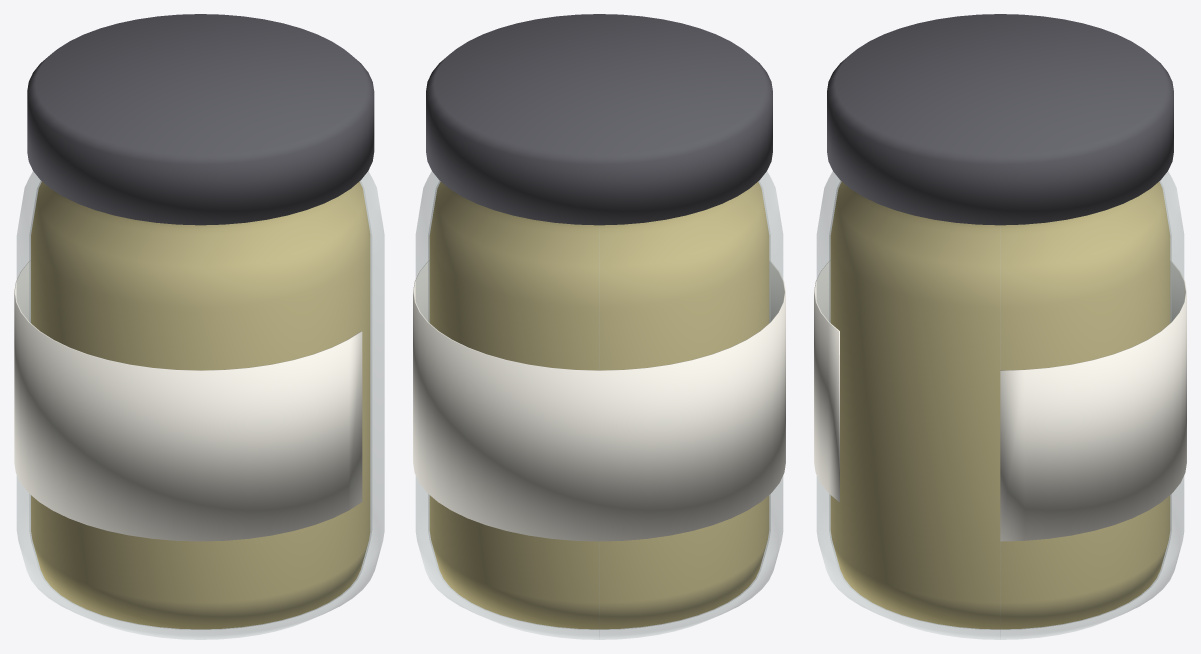
The model's file is bottle_jar.glb.
The picture shows the model from 3 angles, left to right: view 1: azimuth 30°, elevation 25°; view 2: azimuth 150°, elevation 25°; view 3: azimuth 270°, elevation 25°; orthographic projection.
Visible parts, largest first — view 1: Glass, Liquid, Cap, Label; view 2: Glass, Liquid, Label, Cap; view 3: Glass, Liquid, Cap, Label.
Boxes of the visible parts, box(x1,y1,x2,y2) form: Glass: box(17, 171, 384, 639); Liquid: box(31, 181, 370, 629); Cap: box(27, 14, 374, 225); Label: box(14, 260, 362, 541); Glass: box(416, 171, 782, 639); Liquid: box(429, 182, 769, 629); Label: box(413, 260, 785, 541); Cap: box(426, 14, 772, 225); Glass: box(817, 171, 1183, 639); Liquid: box(830, 182, 1170, 629); Cap: box(827, 14, 1173, 225); Label: box(814, 260, 1186, 541).
Size of the model in its own units: 0.0892 by 0.13 by 0.0892.
